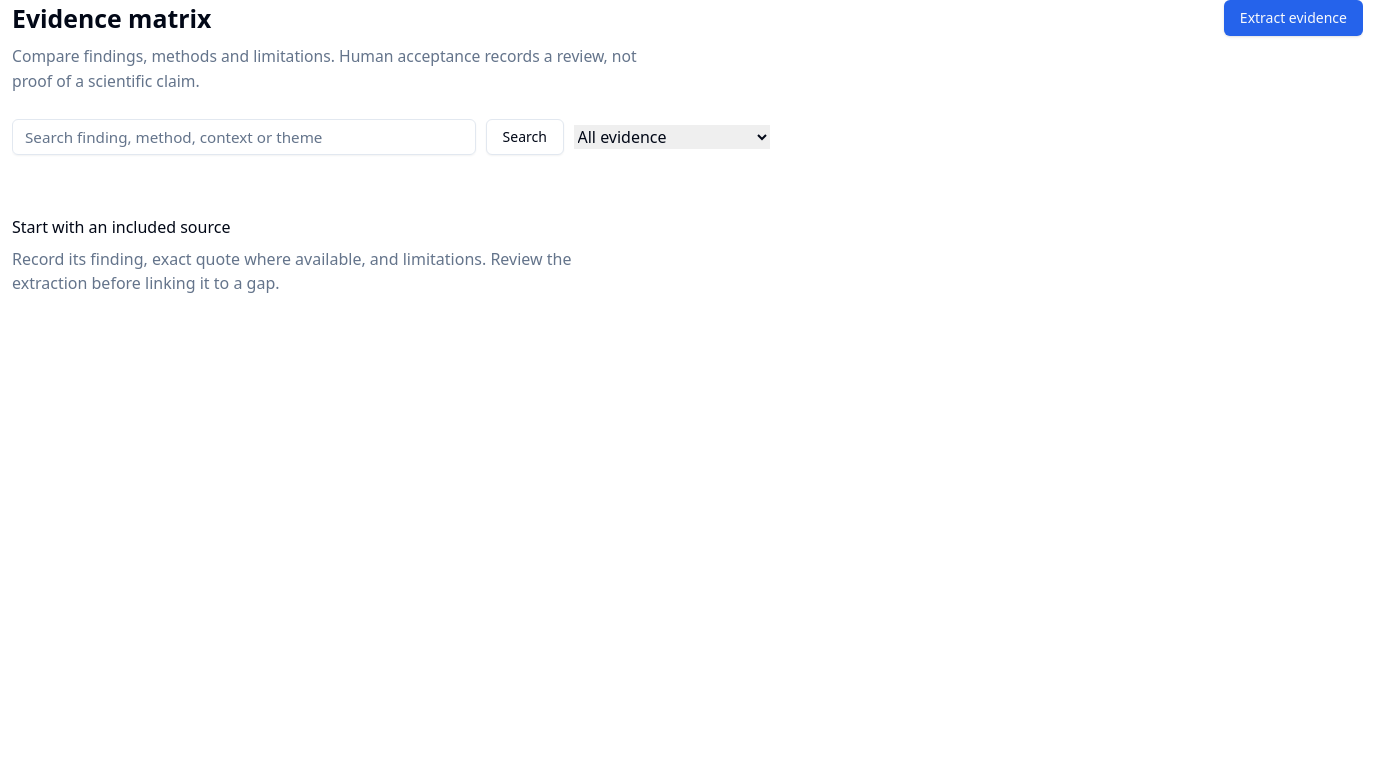
explains why extraction has no eligible sources and prevents saving without one
Click the button "Extract evidence" at (1293, 18), box [1224, 0, 1363, 36]
(page scrolled)
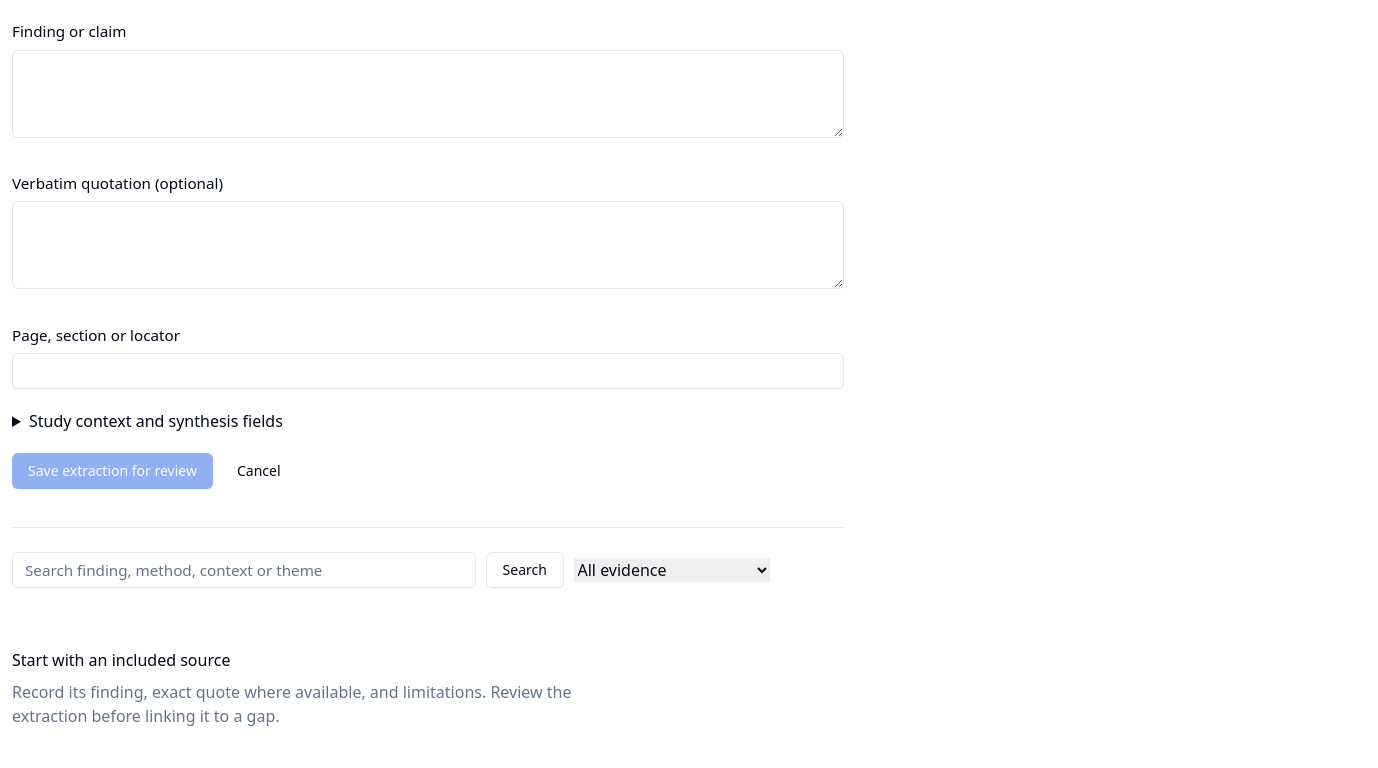
expect the button "Save extraction for review" is disabled: met, box [12, 453, 213, 489]
